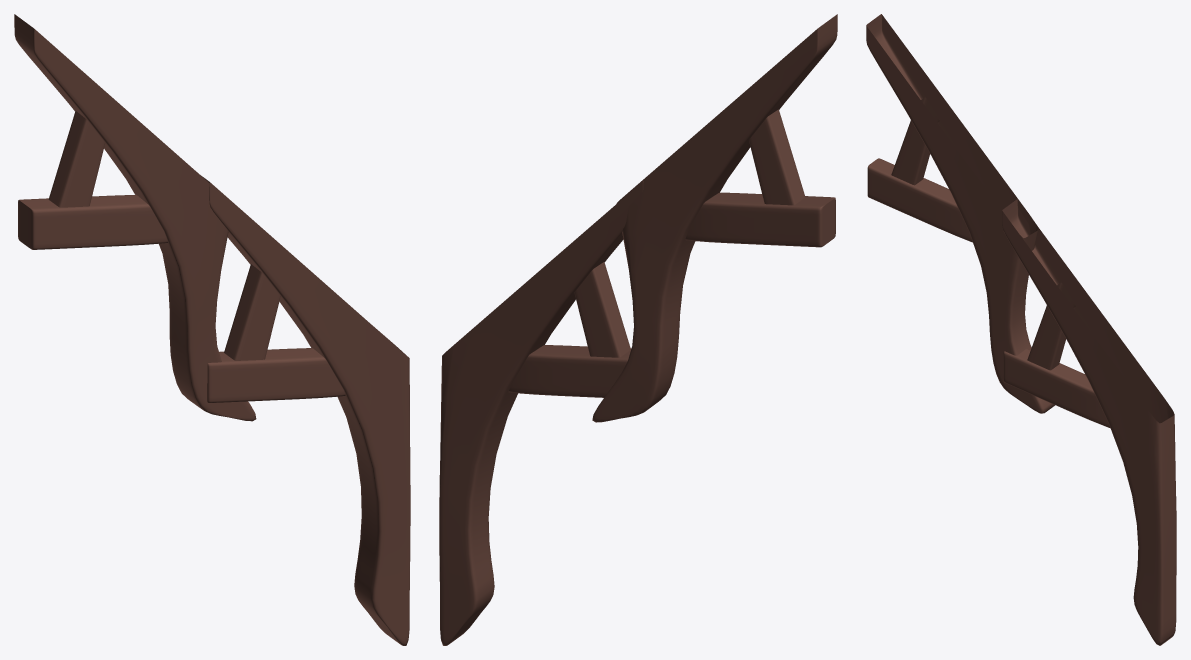
The model's file is WoodenSlopedCeilingSupportCIrcular.fbx.
The picture shows the model from 3 angles, left to right: view 1: azimuth 30°, elevation 25°; view 2: azimuth 150°, elevation 25°; view 3: azimuth 330°, elevation 25°; orthographic projection. The views are drawn at different scales.
Visible parts, largest first — view 1: Cube.104; view 2: Cube.104; view 3: Cube.104.
Boxes of the visible parts, left/top/right/bottom form: Cube.104: left=14, top=14, right=410, bottom=645; Cube.104: left=439, top=14, right=837, bottom=645; Cube.104: left=866, top=14, right=1176, bottom=645.
Bounding box in the file's own units: 400 × 40.92 × 717.
